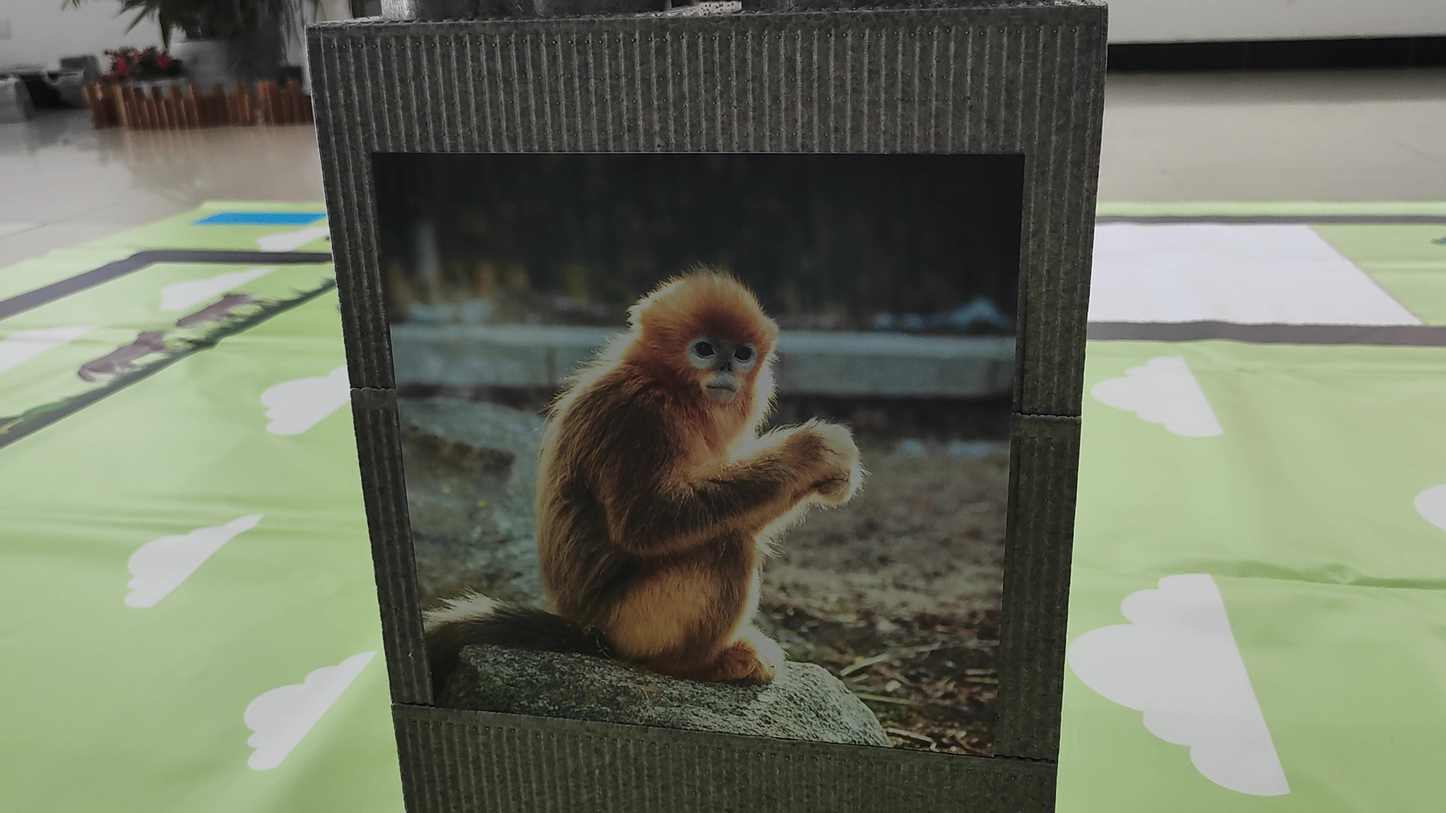monkey: (421, 230, 868, 724)
